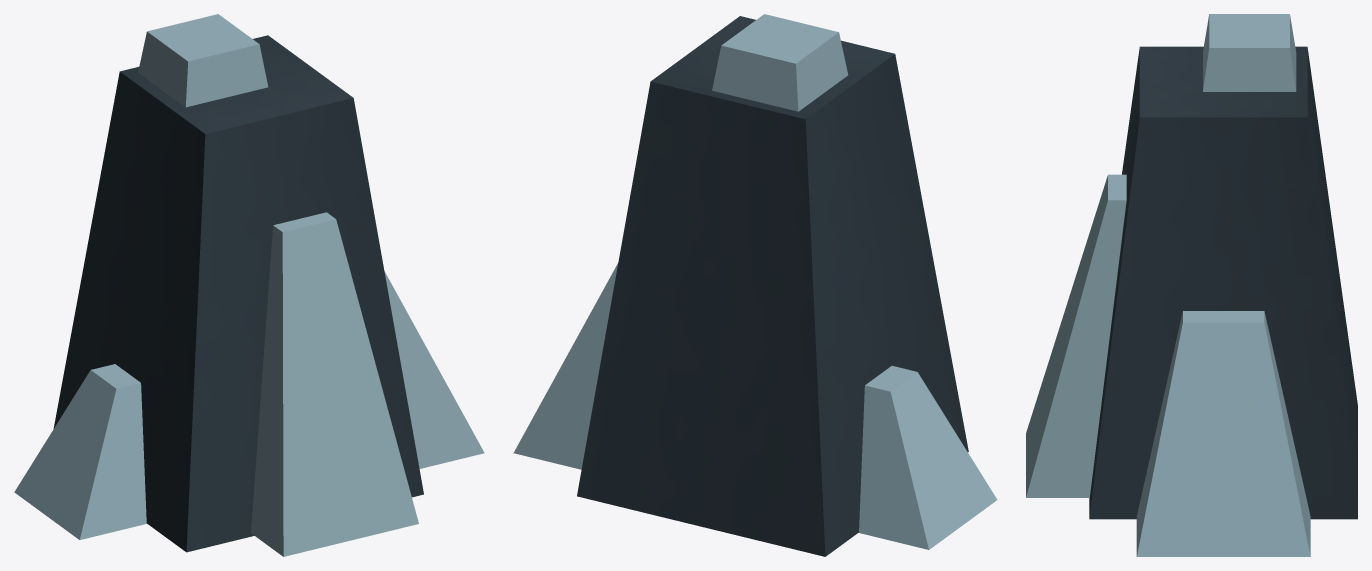
File: Rock_1.fbx
3 views of the same model, side by side, from view 1: azimuth 30°, elevation 25°; view 2: azimuth 150°, elevation 25°; view 3: azimuth 270°, elevation 25° (orthographic). The views are drawn at different scales.
Parts seen in each view (by area): view 1: Cube.001; view 2: Cube.001; view 3: Cube.001.
Part boxes in pixels (x1,y1,x2,y2): Cube.001: (14,14,484,556); Cube.001: (513,14,997,556); Cube.001: (1026,14,1357,556).
Size of the model in its own units: 64.91 by 91.08 by 86.12.
